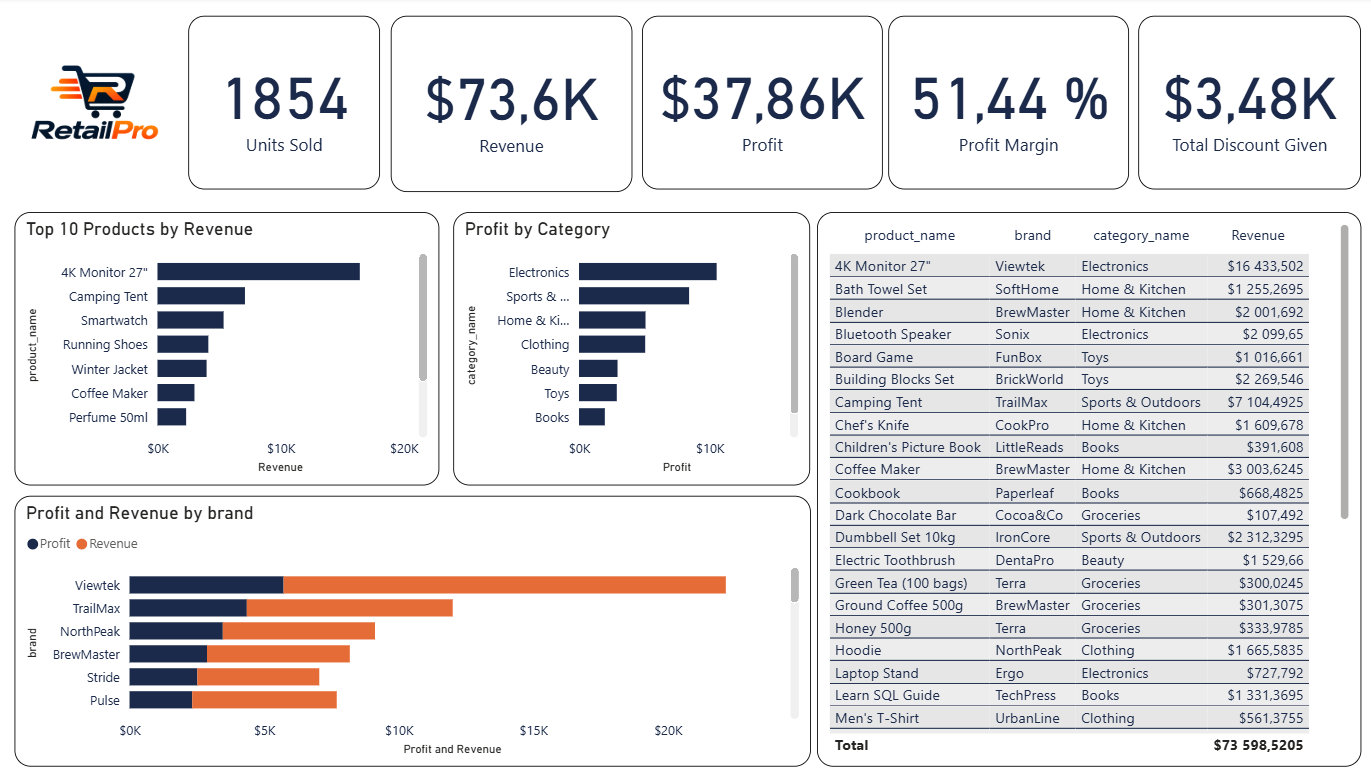

This screenshot's page, from the dashboard's own definition file:
{"tool":"powerbi","page":{"name":"Products Overview","canvas":[1280,720],"ordinal":1},"visuals":[{"type":"card","fields":{"Values":["order_items.Units Sold"]},"box":[178.4,17.8,178.4,161.9],"z":0},{"type":"card","fields":{"Values":["orders.Revenue"]},"box":[366.3,17.4,224.4,164],"z":1000},{"type":"card","fields":{"Values":["orders.Profit"]},"box":[599.7,17.8,223.7,161.9],"z":2000},{"type":"card","fields":{"Values":["orders.Profit Margin"]},"box":[828.8,17.8,223.7,161.9],"z":3000},{"type":"card","fields":{"Values":["order_items.Total Discount Given"]},"box":[1062.1,17.8,207.2,161.9],"z":4000},{"type":"barChart","title":"Profit by Category","fields":{"Y":["orders.Profit"],"Category":["categories.category_name"]},"box":[424.9,199.5,332,254.1],"z":5000},{"type":"barChart","title":"Top 10 Products by Revenue","fields":{"Category":["products.product_name"],"Y":["orders.Revenue"]},"box":[16.4,199.5,394.9,254.1],"z":6000},{"type":"tableEx","fields":{"Values":["products.product_name","products.brand","categories.category_name","orders.Revenue"]},"box":[762.9,199.9,506.4,516.4],"z":7000},{"type":"barChart","fields":{"Category":["products.brand"],"Y":["orders.Profit","orders.Revenue"]},"box":[16.7,464.2,740.7,252.1],"z":8000},{"type":"image","box":[10,12,161,172],"z":9000}]}

Visuals, with their boxes in screenshot pixels (x1, y1, x2, y2), scaled from the page's 1280x720 canvas onto the 1371x770 screenshot:
card - order_items.Units Sold: left=191, top=19, right=382, bottom=192
card - orders.Revenue: left=392, top=19, right=633, bottom=194
card - orders.Profit: left=642, top=19, right=882, bottom=192
card - orders.Profit Margin: left=888, top=19, right=1127, bottom=192
card - order_items.Total Discount Given: left=1138, top=19, right=1360, bottom=192
"Profit by Category" barChart: left=455, top=213, right=811, bottom=485
"Top 10 Products by Revenue" barChart: left=18, top=213, right=441, bottom=485
tableEx - products.product_name x products.brand: left=817, top=214, right=1360, bottom=766
barChart - products.brand x orders.Profit: left=18, top=496, right=811, bottom=766
image: left=11, top=13, right=183, bottom=197
